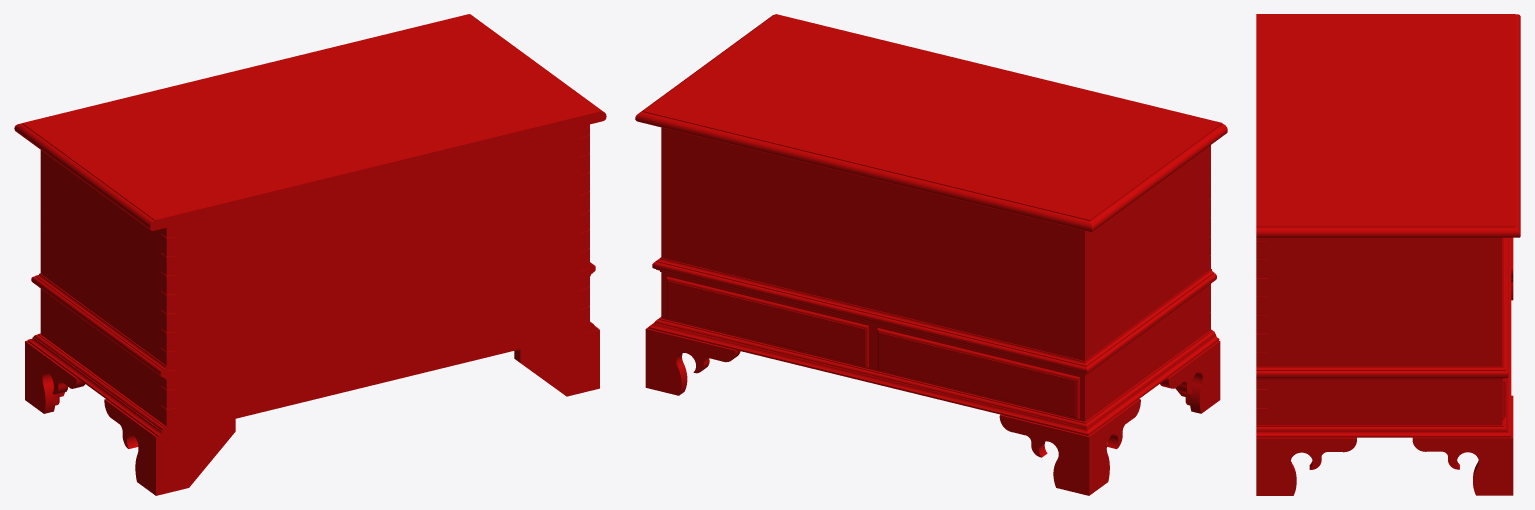
3 renders of one model, left to right at view 1: azimuth 30°, elevation 25°; view 2: azimuth 150°, elevation 25°; view 3: azimuth 270°, elevation 25°, orthographic. The views are drawn at different scales.
Parts seen in each view (by area): view 1: mesh89_mesh89-geometry, mesh7_mesh7-geometry, mesh94_mesh94-geometry, mesh1_mesh1-geometry, mesh57_mesh57-geometry, mesh43_mesh43-geometry, mesh15_mesh15-geometry, mesh34_mesh34-geometry, mesh52_mesh52-geometry, mesh66_mesh66-geometry, mesh59_mesh59-geometry, mesh100_mesh100-geometry; view 2: mesh100_mesh100-geometry, mesh7_mesh7-geometry, mesh94_mesh94-geometry, mesh124_mesh124-geometry, mesh66_mesh66-geometry, mesh34_mesh34-geometry, mesh1_mesh1-geometry, mesh15_mesh15-geometry, mesh50_mesh50-geometry, mesh36_mesh36-geometry, mesh59_mesh59-geometry, mesh52_mesh52-geometry (+2 smaller); view 3: mesh7_mesh7-geometry, mesh98_mesh98-geometry, mesh15_mesh15-geometry, mesh66_mesh66-geometry, mesh34_mesh34-geometry, mesh45_mesh45-geometry, mesh38_mesh38-geometry, mesh1_mesh1-geometry, mesh89_mesh89-geometry, mesh100_mesh100-geometry, mesh36_mesh36-geometry, mesh43_mesh43-geometry.
Boxes of the visible parts, x1,y1,x2,y2 form: mesh89_mesh89-geometry: (161, 127, 589, 432); mesh7_mesh7-geometry: (44, 19, 579, 224); mesh94_mesh94-geometry: (40, 154, 176, 434); mesh1_mesh1-geometry: (14, 118, 176, 230); mesh57_mesh57-geometry: (150, 419, 235, 493); mesh43_mesh43-geometry: (514, 332, 599, 396); mesh15_mesh15-geometry: (448, 14, 606, 126); mesh34_mesh34-geometry: (27, 321, 598, 437); mesh52_mesh52-geometry: (25, 340, 85, 413); mesh66_mesh66-geometry: (31, 262, 595, 379); mesh59_mesh59-geometry: (104, 399, 165, 495); mesh100_mesh100-geometry: (40, 150, 46, 298); mesh100_mesh100-geometry: (661, 127, 1090, 381); mesh7_mesh7-geometry: (661, 19, 1200, 225); mesh94_mesh94-geometry: (1075, 149, 1210, 421); mesh124_mesh124-geometry: (667, 276, 1079, 419); mesh66_mesh66-geometry: (652, 257, 1216, 375); mesh34_mesh34-geometry: (648, 317, 1219, 435); mesh1_mesh1-geometry: (1065, 118, 1227, 232); mesh15_mesh15-geometry: (635, 14, 796, 127); mesh50_mesh50-geometry: (999, 414, 1094, 493); mesh36_mesh36-geometry: (645, 330, 740, 395); mesh59_mesh59-geometry: (1160, 341, 1220, 413); mesh52_mesh52-geometry: (1079, 399, 1140, 495); mesh7_mesh7-geometry: (1256, 24, 1520, 220); mesh98_mesh98-geometry: (1256, 237, 1502, 425); mesh15_mesh15-geometry: (1256, 216, 1520, 237); mesh66_mesh66-geometry: (1256, 237, 1508, 379); mesh34_mesh34-geometry: (1256, 237, 1511, 437); mesh45_mesh45-geometry: (1256, 437, 1356, 495); mesh38_mesh38-geometry: (1412, 433, 1513, 495); mesh1_mesh1-geometry: (1256, 14, 1520, 28); mesh89_mesh89-geometry: (1256, 241, 1267, 424); mesh100_mesh100-geometry: (1491, 237, 1502, 386); mesh36_mesh36-geometry: (1502, 395, 1513, 492); mesh43_mesh43-geometry: (1256, 442, 1267, 492).
Size of the model in its own units: 0.7903 by 0.4583 by 0.4066.
